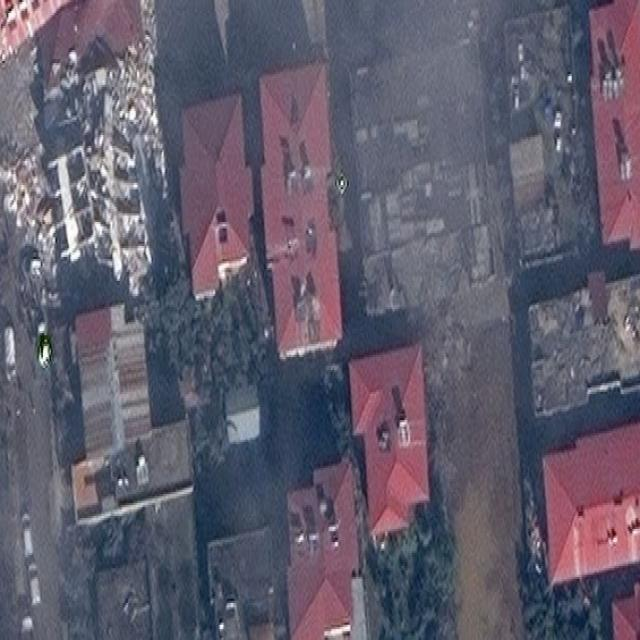Rubble: (90, 72, 160, 280), (2, 150, 60, 274)
